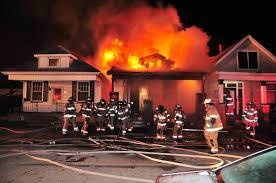fire: (97, 34, 183, 70)
